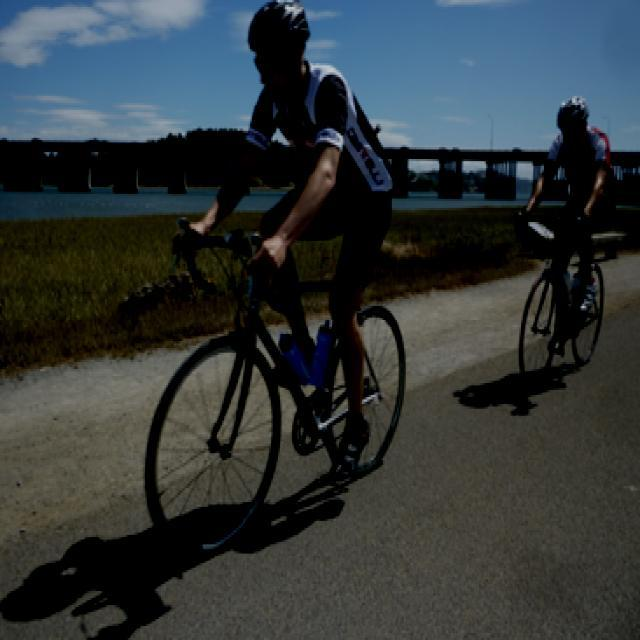Helmet: (239, 0, 318, 107), (554, 89, 593, 152)
